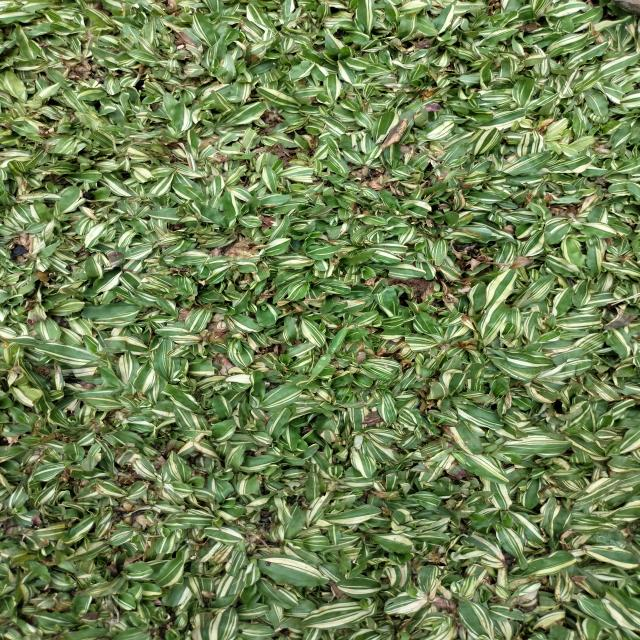gingseng jawa: (429, 415, 448, 428)
rambat atas: (305, 322, 350, 385)
